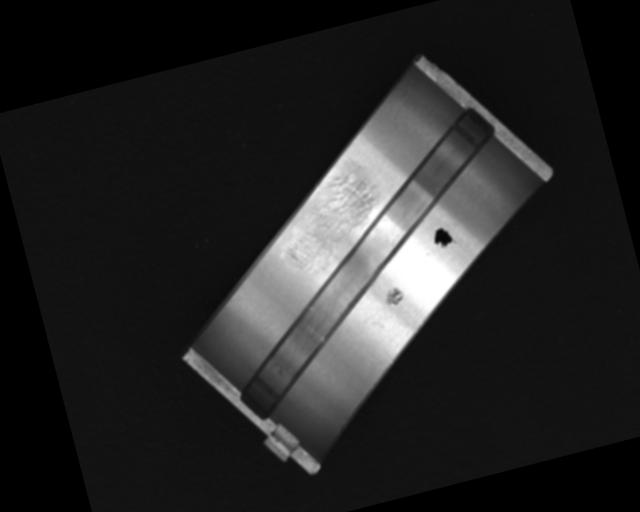blot: (430, 224, 458, 252)
bruise: (382, 285, 407, 309)
gap: (187, 105, 542, 421)
scratch: (270, 169, 393, 281)
